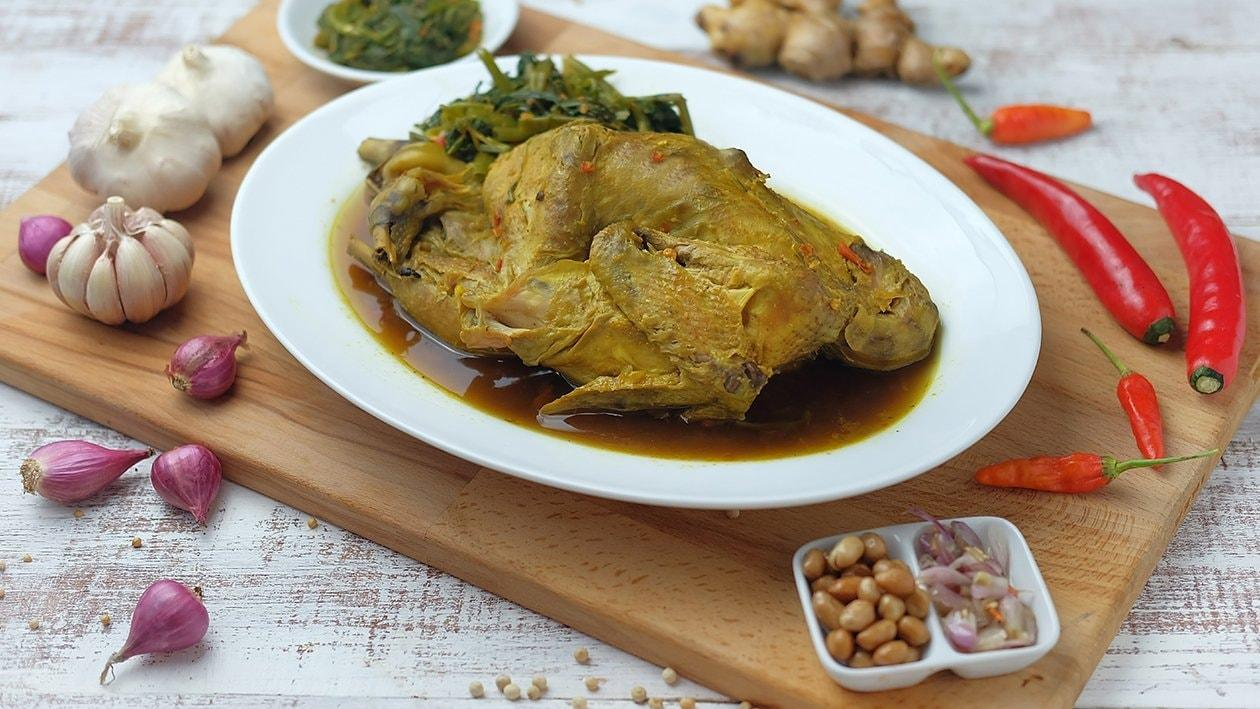ayam_betutu: (346, 125, 942, 417)
